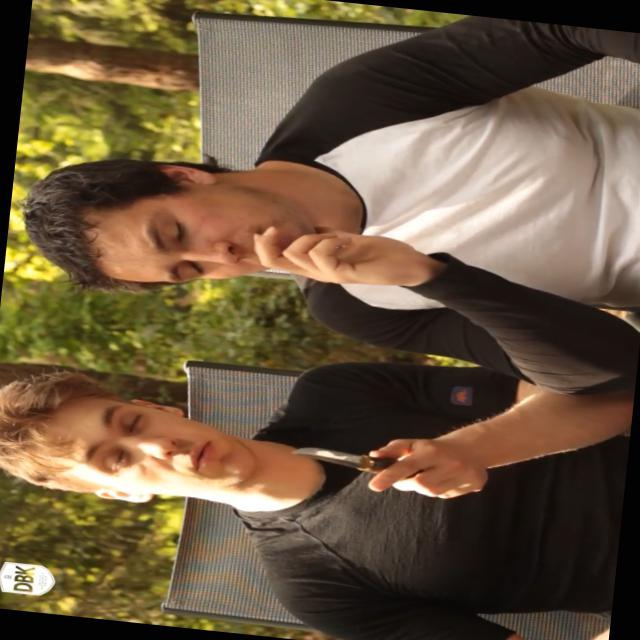knife: (271, 420, 491, 510)
